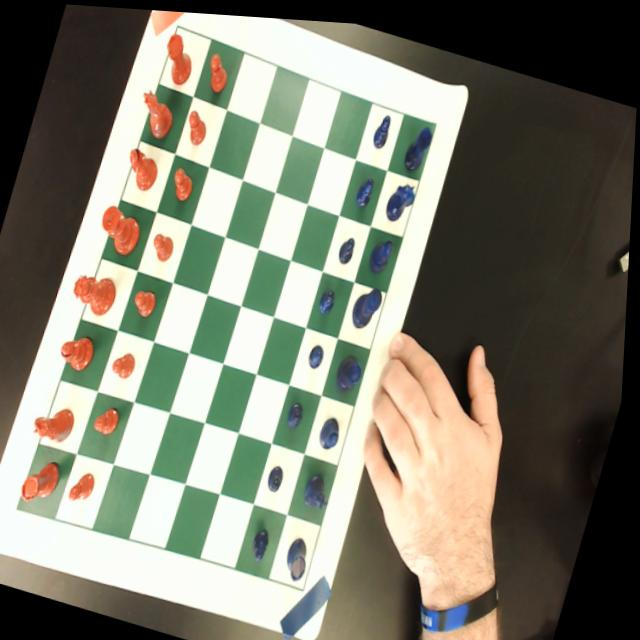B: (367, 230, 397, 272), (320, 408, 348, 448)
K: (350, 277, 387, 328)
N: (384, 172, 420, 222), (305, 467, 340, 509)
P: (371, 106, 394, 145), (253, 522, 277, 558), (337, 227, 361, 262), (355, 167, 377, 205), (309, 335, 330, 368), (288, 395, 309, 426), (269, 458, 290, 489), (320, 281, 340, 310)
Q: (335, 346, 369, 392)
R: (403, 114, 437, 168), (286, 527, 320, 580)
b: (122, 142, 165, 192), (59, 328, 101, 376)
k: (95, 200, 148, 258)
n: (133, 84, 179, 140), (34, 396, 83, 447)
p: (202, 48, 233, 93), (182, 104, 213, 146), (168, 162, 199, 202), (72, 466, 102, 506), (112, 345, 142, 380), (96, 400, 125, 436), (132, 285, 162, 319), (151, 228, 179, 261)
q: (70, 267, 123, 318)
r: (22, 452, 68, 509), (158, 28, 200, 85)
